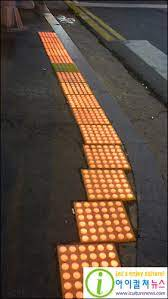guide_blocks: (75, 146, 136, 241), (58, 73, 118, 142), (54, 244, 121, 299), (40, 32, 74, 72)
